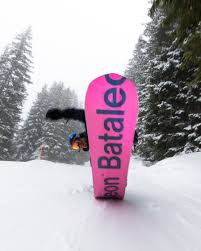snowboard: (82, 71, 141, 201)
